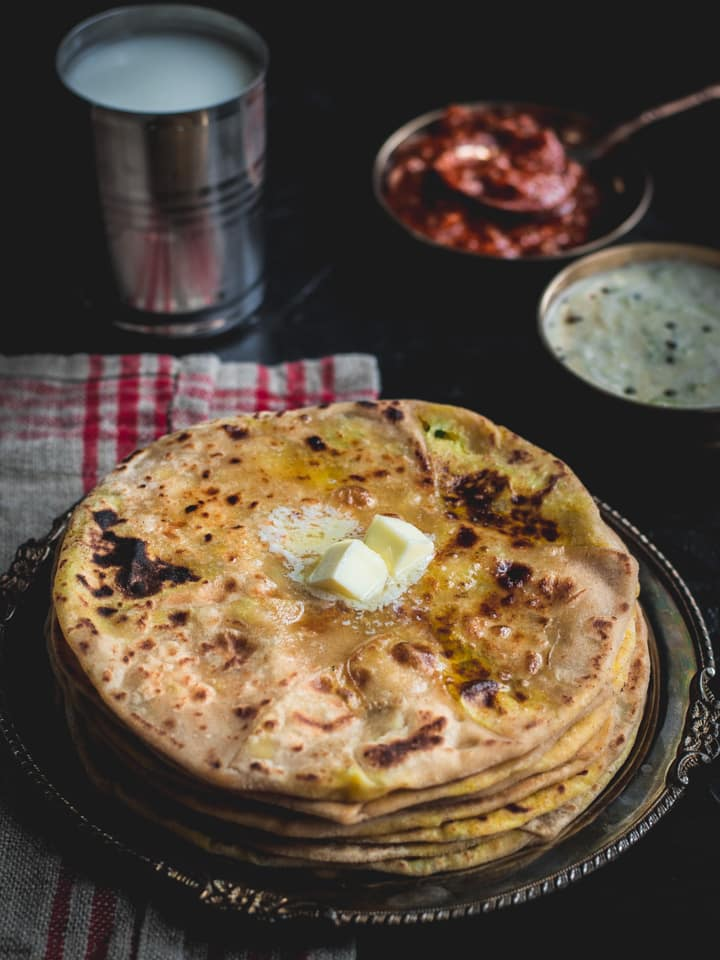aloo_paratha: (41, 397, 659, 886)
